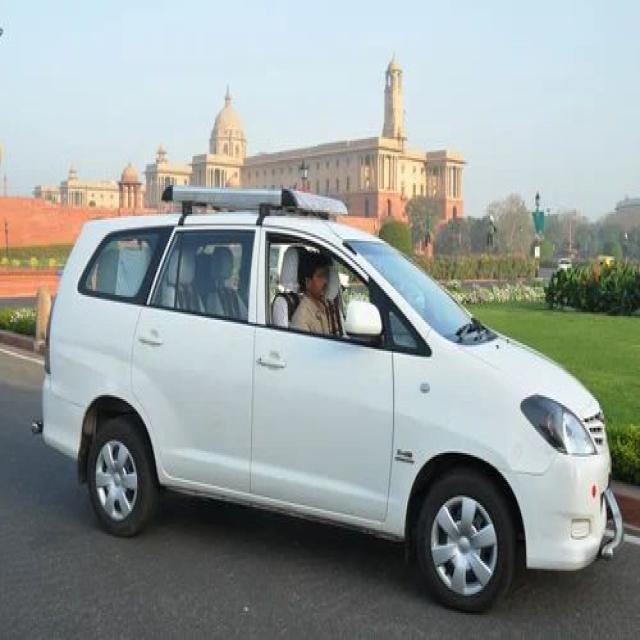light_vehicle: (33, 187, 619, 611)
